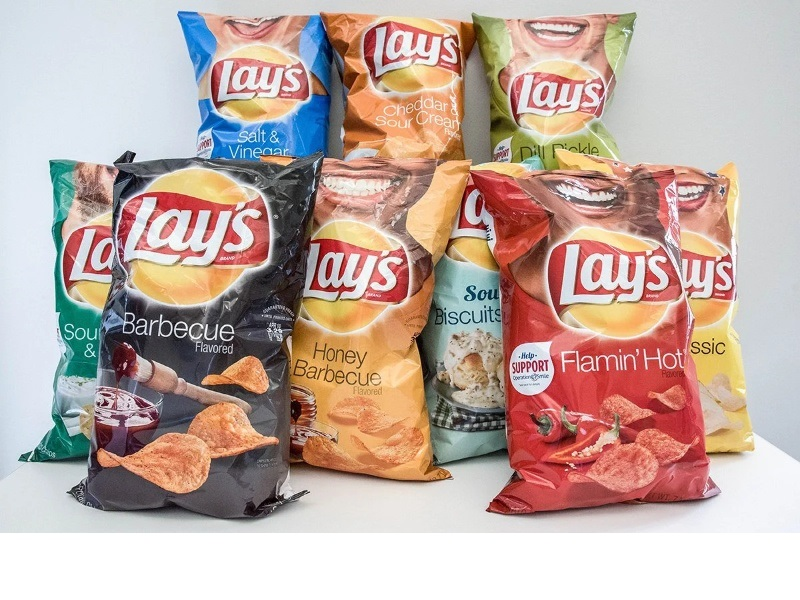chips: (73, 150, 346, 529), (468, 161, 729, 527), (265, 142, 469, 492), (173, 6, 348, 164), (320, 5, 478, 177), (477, 5, 648, 161)
